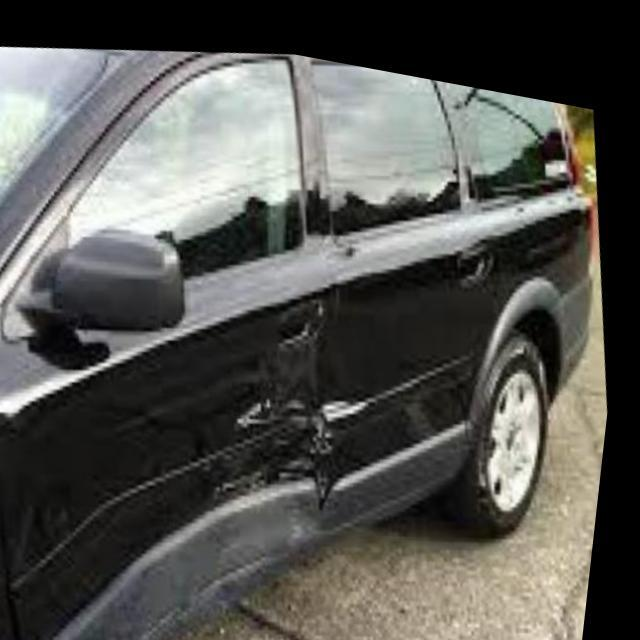dent: (32, 319, 354, 640)
